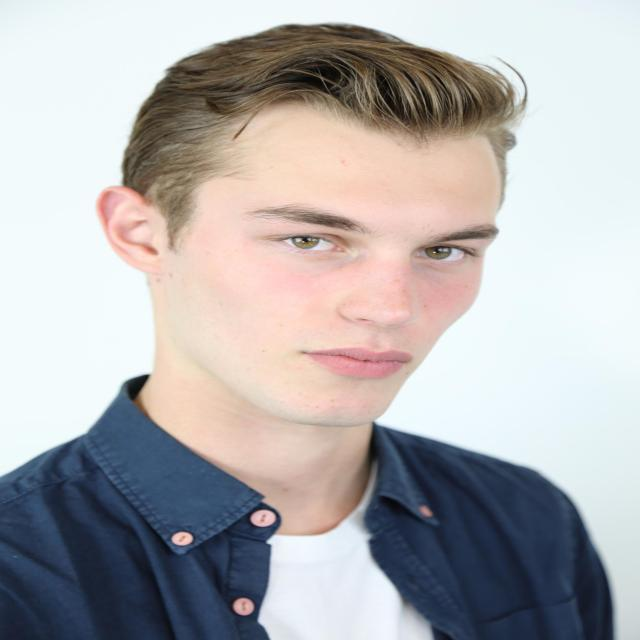human: (36, 20, 630, 640)
